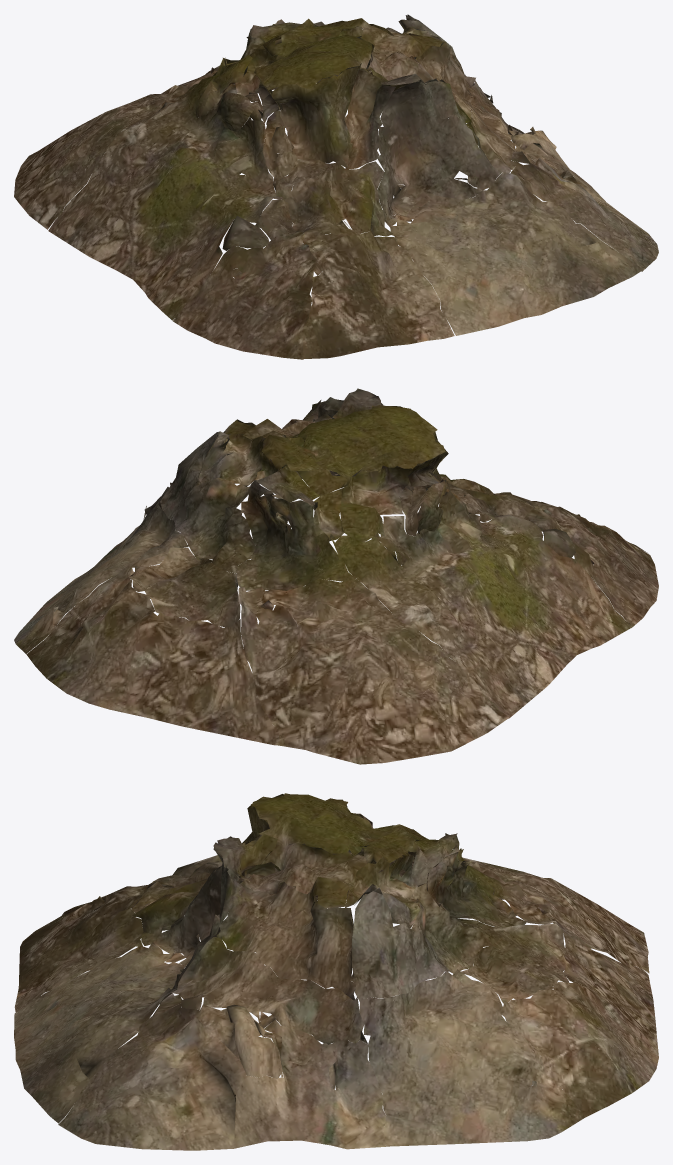
The model's file is tree_stump_01.glb.
3 renders of one model, top to bottom at view 1: azimuth 30°, elevation 25°; view 2: azimuth 150°, elevation 25°; view 3: azimuth 270°, elevation 25°, orthographic. The views are drawn at different scales.
Visible parts, largest first — view 1: tree_stump_01; view 2: tree_stump_01; view 3: tree_stump_01.
Part boxes in pixels (bbox=[...]): tree_stump_01: bbox=[14, 14, 658, 359]; tree_stump_01: bbox=[14, 388, 658, 764]; tree_stump_01: bbox=[14, 793, 658, 1150].
Size of the model in its own units: 1.42 by 0.571 by 1.59.
1 material, 1 textured.
